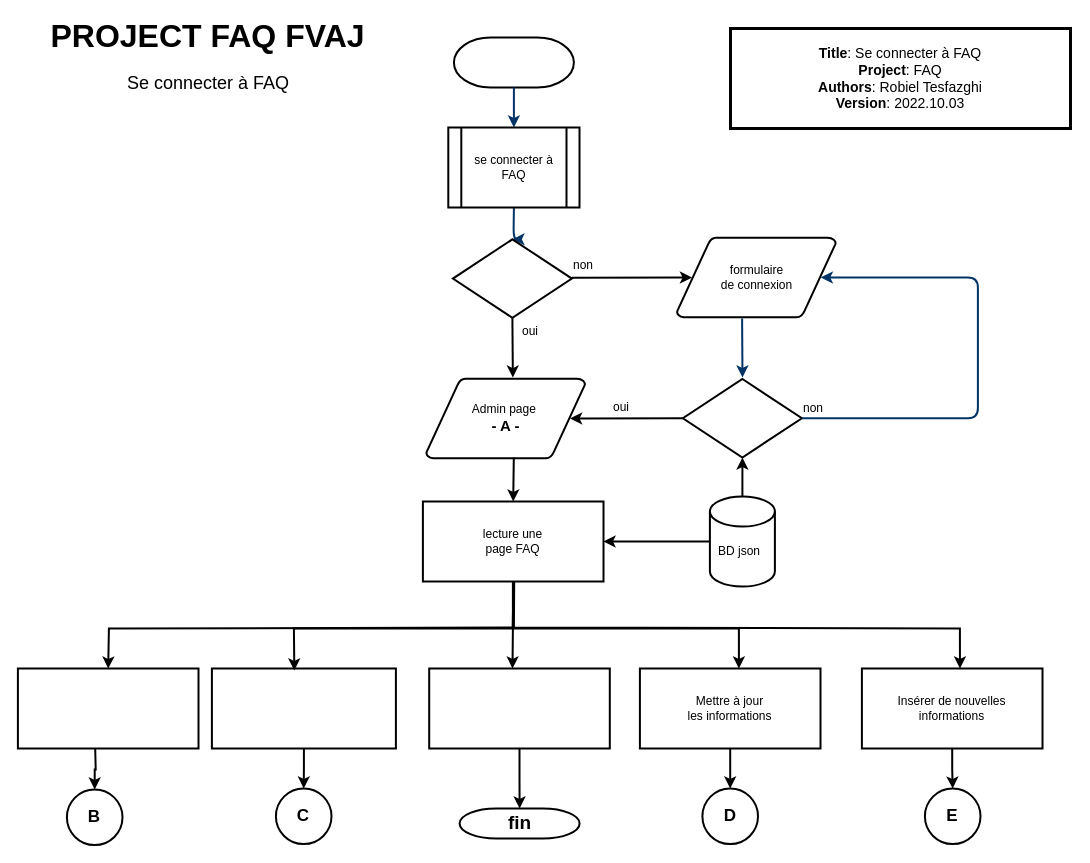
This 1090x863 diagram has some shape labels left out. The shapes that lost their labels are listed below. From the top down, each one's box as (x1, y1, x2, y2) in pixels, then its label:
(452, 36, 574, 88): début -A-
(451, 238, 572, 318): Ouverture de session ?
(681, 378, 802, 458): authentification ?
(16, 667, 199, 749): Changer le mot de passe
(210, 667, 396, 749): Suppression de l'information
(428, 667, 610, 749): Déconnexion
